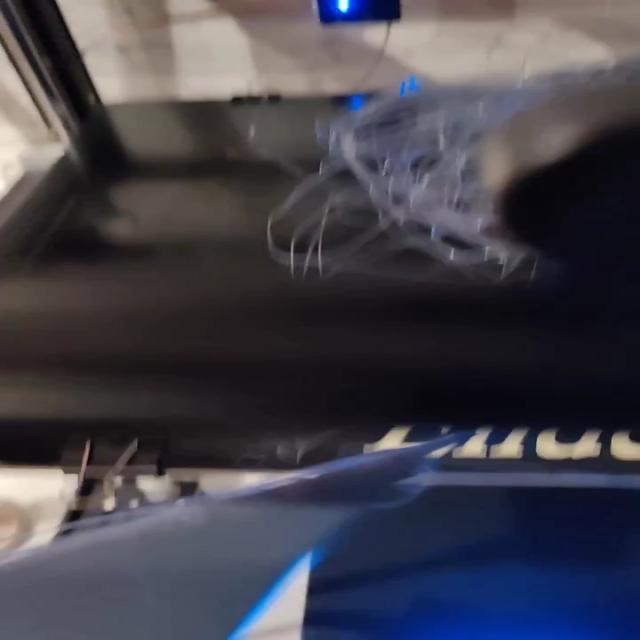spaghetti: (246, 92, 606, 318)
